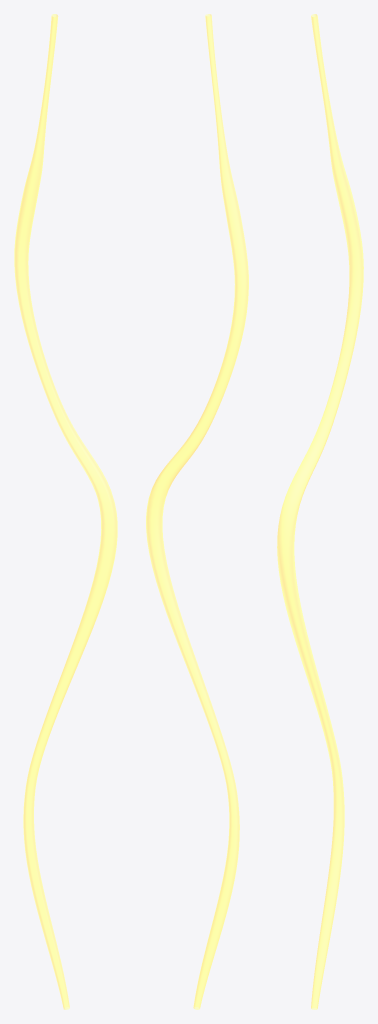
The model's file is strand_e_junction.glb.
3 views of the same model, side by side, from view 1: azimuth 30°, elevation 25°; view 2: azimuth 210°, elevation 25°; view 3: azimuth 270°, elevation 25° (orthographic).
Size of the model in its own units: 0.5599 by 8.01 by 0.6366.
